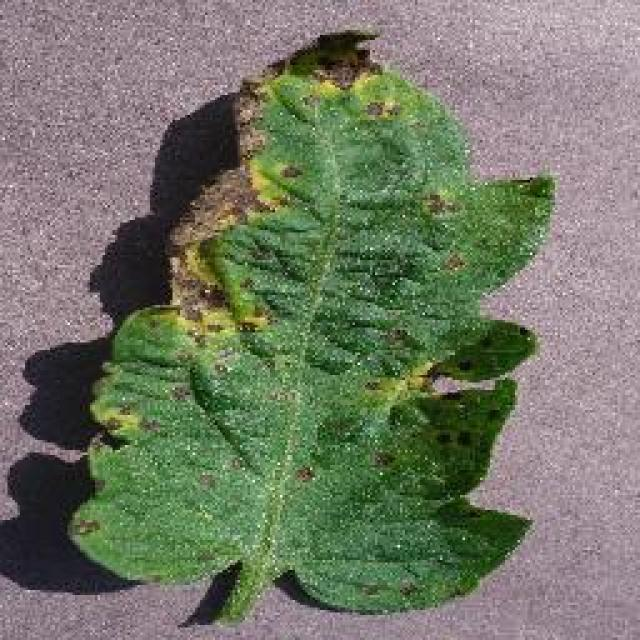Tomato target spot leaf: (59, 33, 561, 615)
